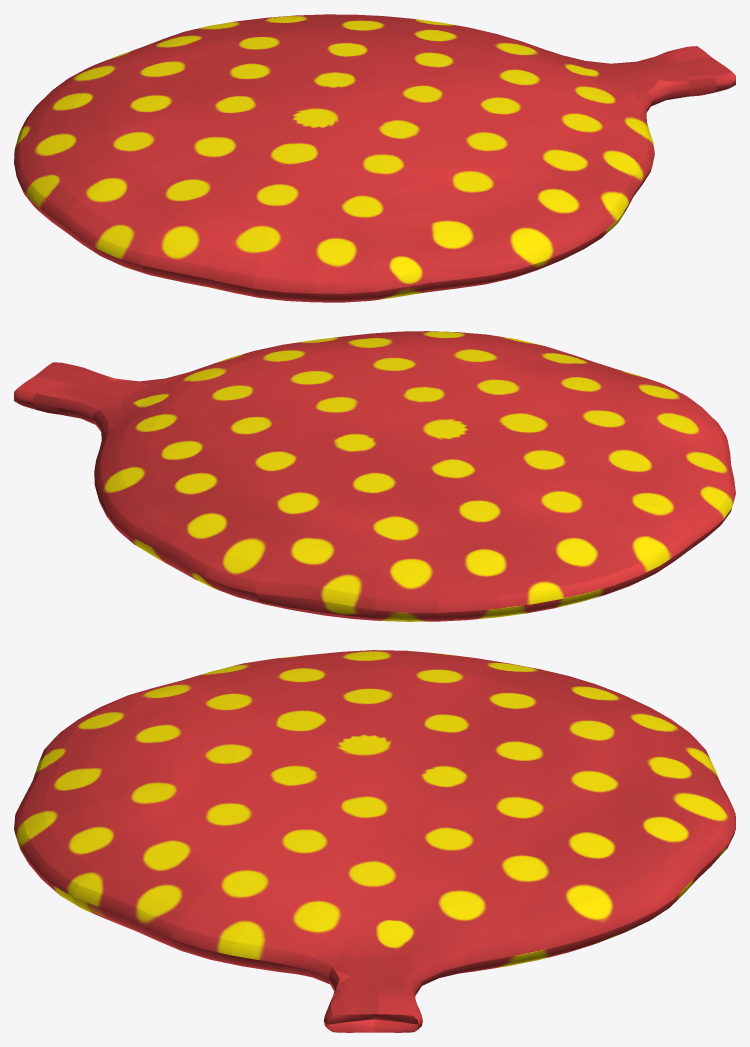
File: whoopie_cushion.fbx
The picture shows the model from 3 angles, top to bottom: view 1: azimuth 30°, elevation 25°; view 2: azimuth 150°, elevation 25°; view 3: azimuth 270°, elevation 25°; orthographic projection. The views are drawn at different scales.
Visible parts, largest first — view 1: Sphere; view 2: Sphere; view 3: Sphere.
Part boxes in pixels (<box>): Sphere: <box>14,14,735,302</box>; Sphere: <box>14,331,735,621</box>; Sphere: <box>14,650,735,1032</box>.
Size of the model in its own units: 343 by 49.95 by 289.
